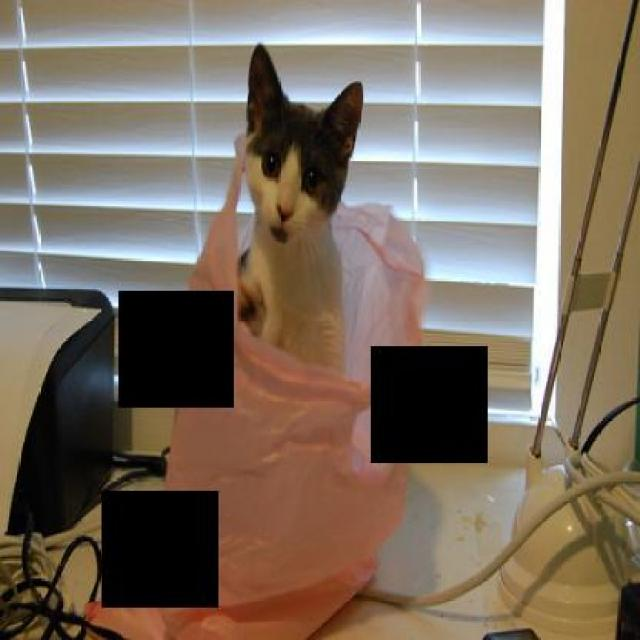plastic bag: (82, 130, 423, 638)
